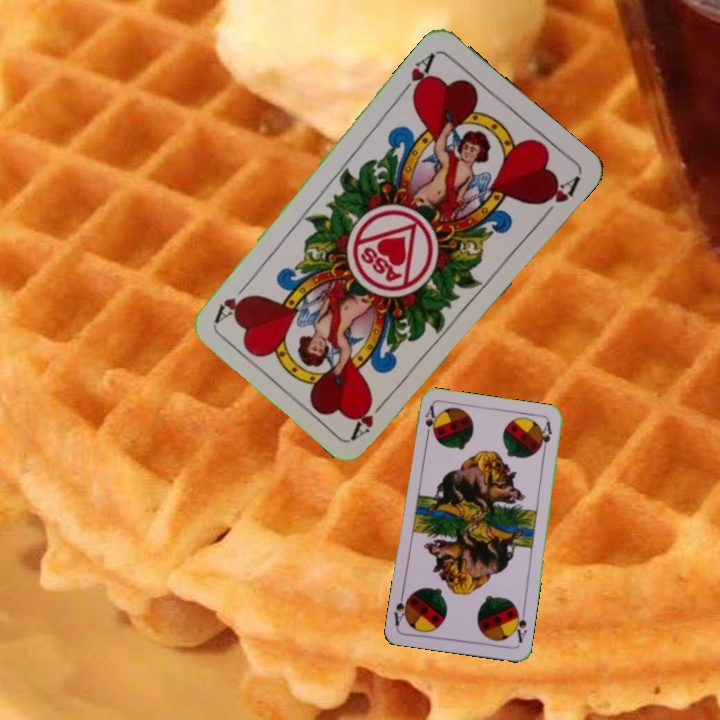HA: (348, 392, 392, 442), (396, 49, 438, 101)
SA: (509, 605, 530, 645), (421, 402, 439, 442)
